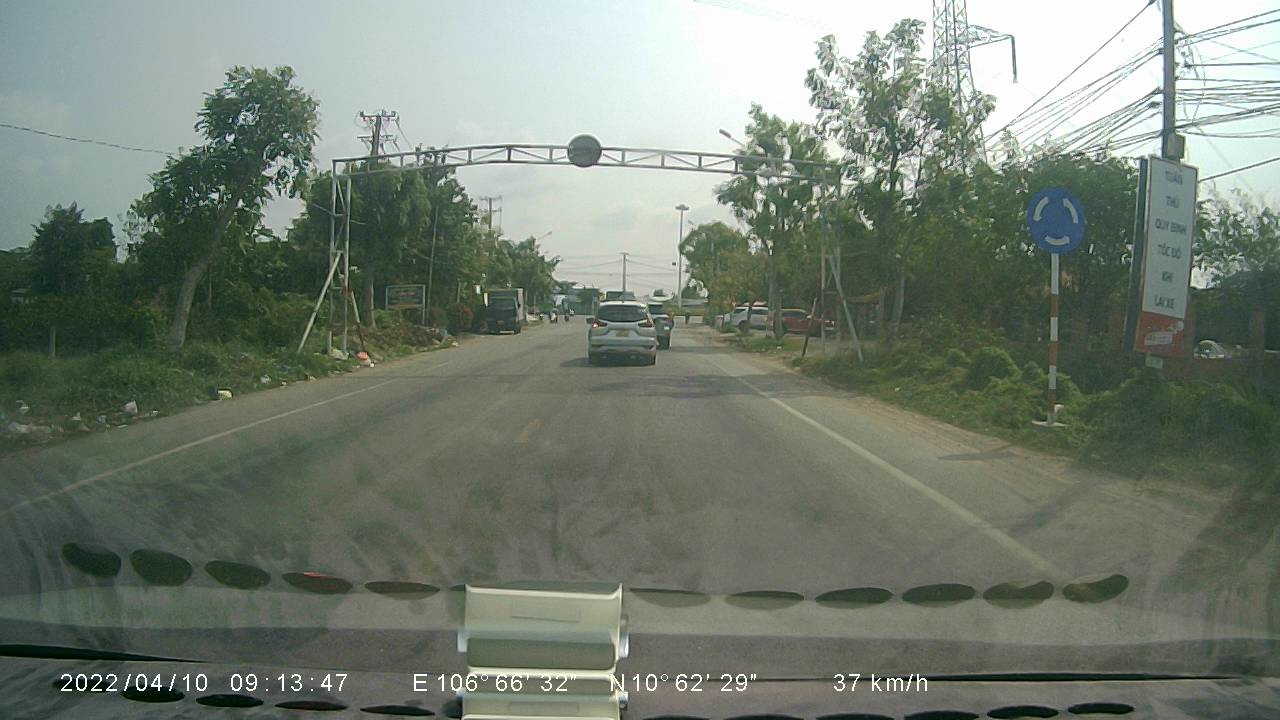Bien khac: (1022, 180, 1086, 251)
